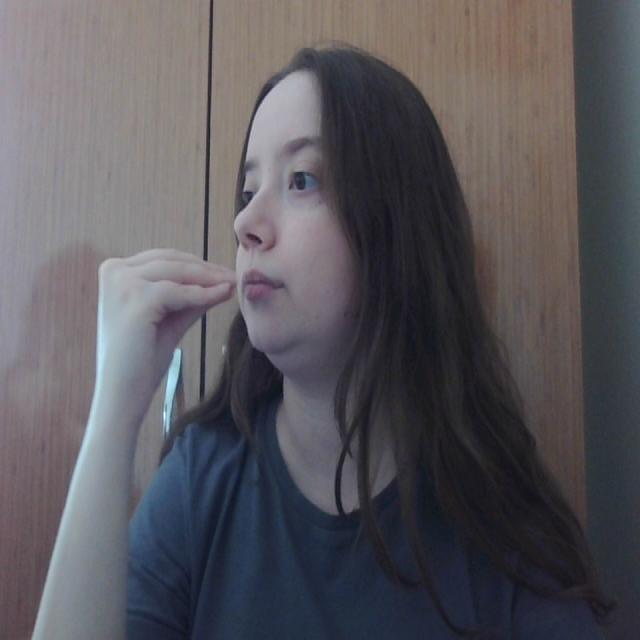Yemek: (90, 248, 291, 330)
